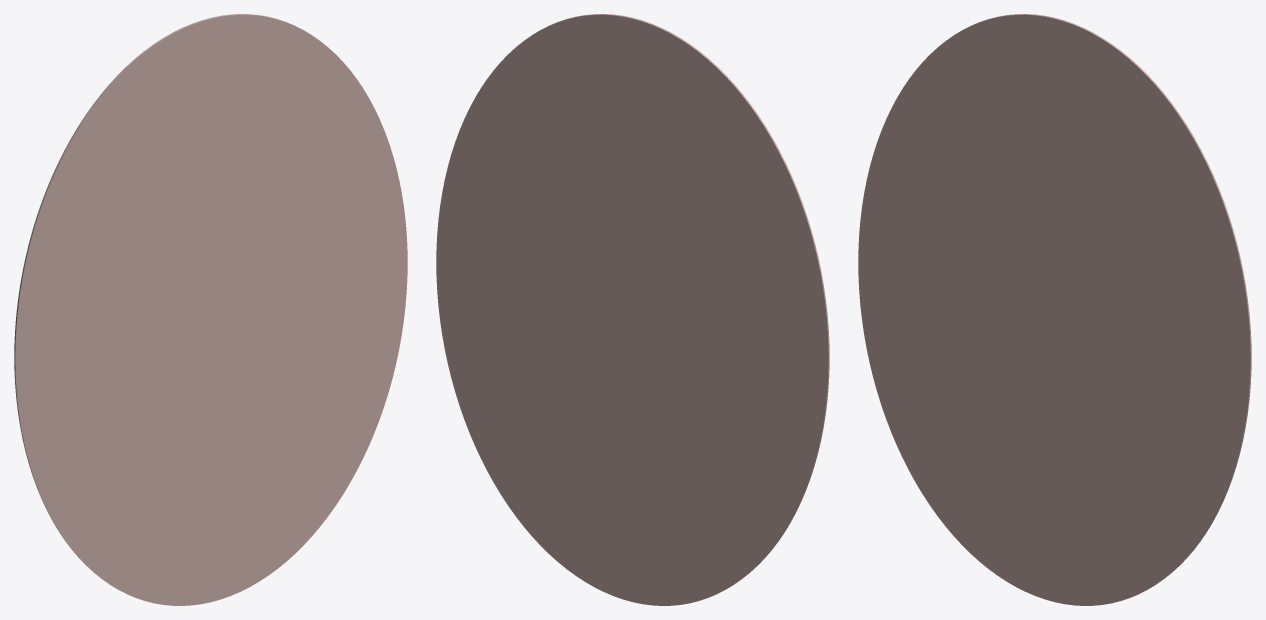
File: peritoneum.glb
3 renders of one model, left to right at view 1: azimuth 30°, elevation 25°; view 2: azimuth 150°, elevation 25°; view 3: azimuth 330°, elevation 25°, orthographic.
Parts seen in each view (by area): view 1: peritoneum; view 2: peritoneum; view 3: peritoneum.
Boxes of the visible parts, bbox=[...] form: peritoneum: bbox=[14, 14, 407, 605]; peritoneum: bbox=[436, 14, 829, 605]; peritoneum: bbox=[858, 14, 1251, 605].
Size of the model in its own units: 0.3344 by 0.4752 by 0.0016.
